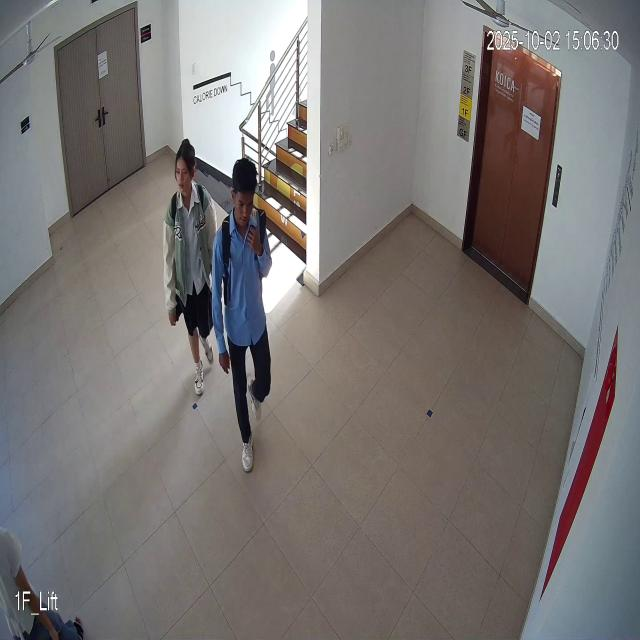face: (228, 153, 255, 229), (171, 134, 200, 200)
